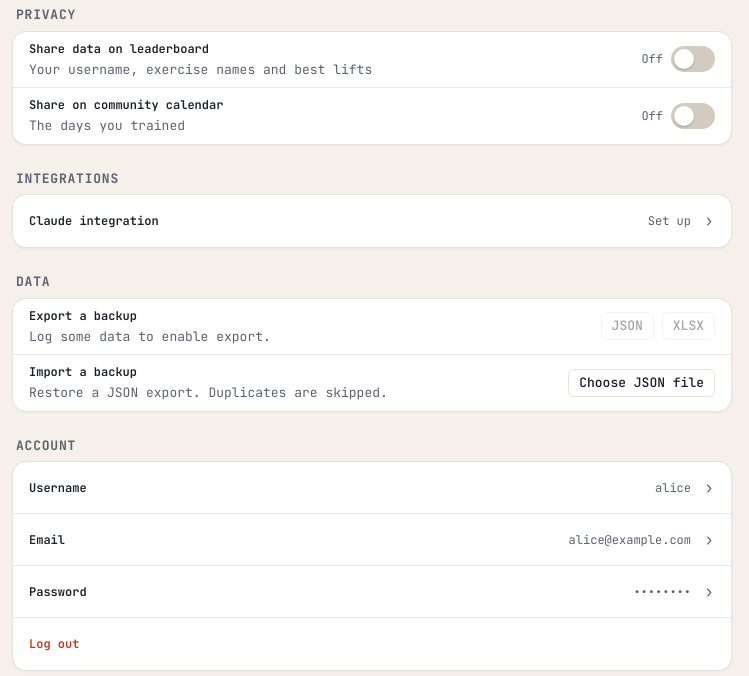
Test: Settings — account rows › opening one row closes the other
(page scrolled)
Click the button "Username alice ›". click: (58, 488)
box: [13,462,731,514]
(page scrolled)
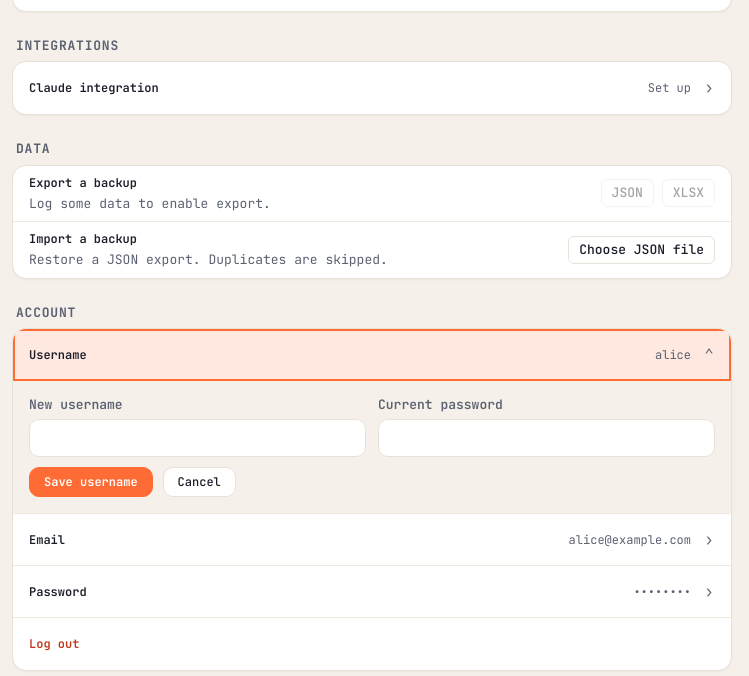
expect the field labelled "New username" is shown: met, box [29,418,366,456]
Click the button "Password •••••••• ›". click: (58, 592)
box: [13,566,731,618]
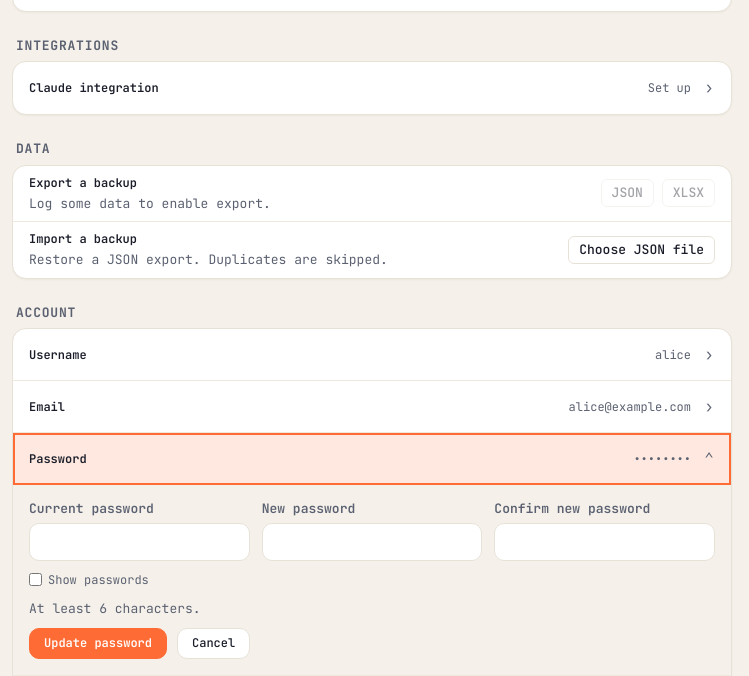
expect the label labelled "New username" is gone: met
expect the password field labelled "Confirm new password" is shown: met, box [494,522,715,560]
